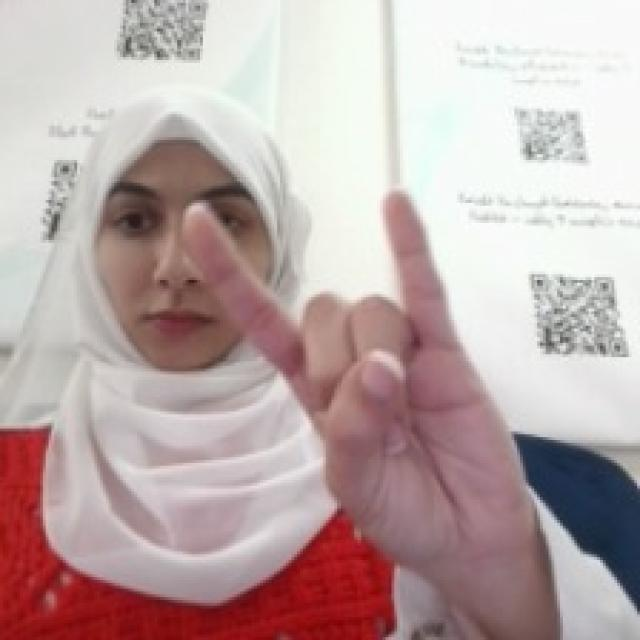No: (188, 174, 528, 557)
